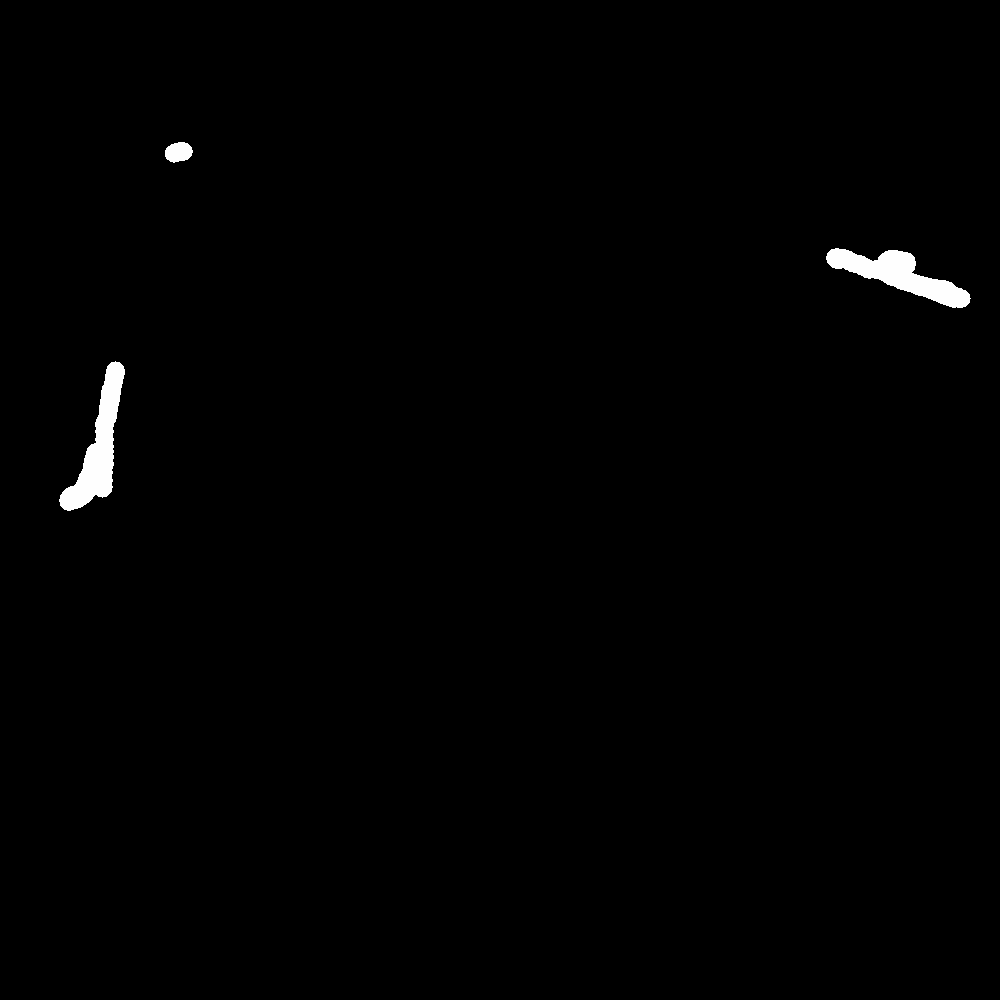illegal: (86, 378, 119, 496), (152, 138, 198, 161)
